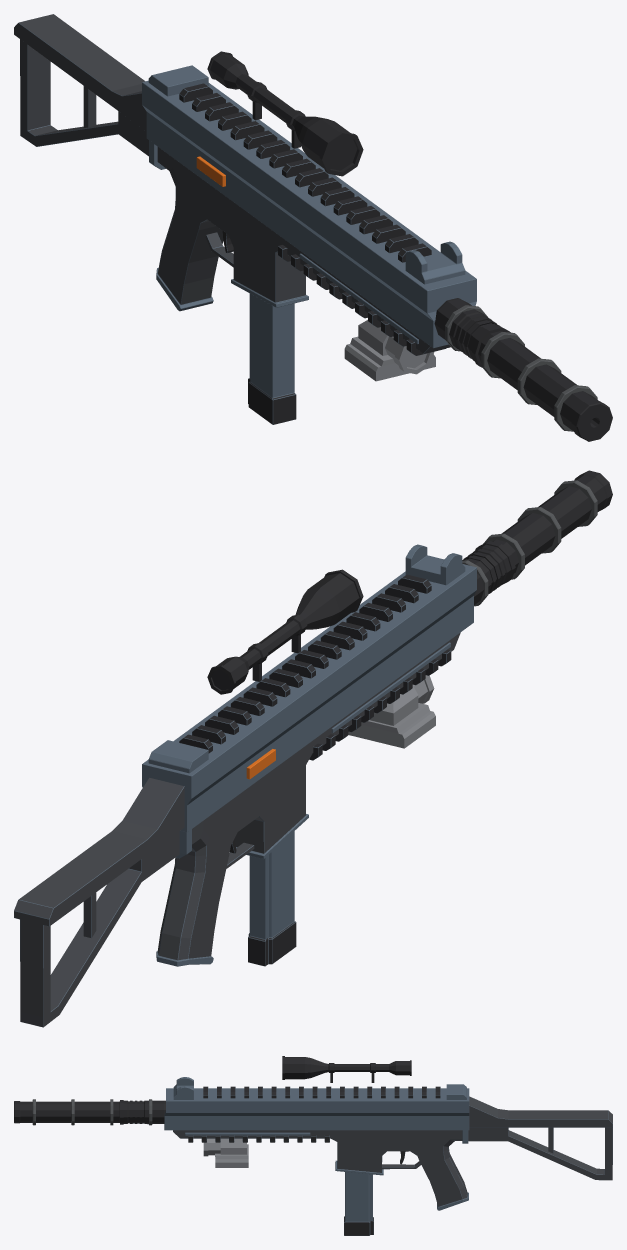
The model's file is tactical_smg.glb.
The picture shows the model from 3 angles, top to bottom: view 1: azimuth 30°, elevation 25°; view 2: azimuth 150°, elevation 25°; view 3: azimuth 270°, elevation 25°; orthographic projection. The views are drawn at different scales.
Parts seen in each view (by area): view 1: tactical_smg; view 2: tactical_smg; view 3: tactical_smg.
Part boxes in pixels (left/top/right/bottom): tactical_smg: left=14, top=14, right=612, bottom=441; tactical_smg: left=14, top=470, right=612, bottom=1027; tactical_smg: left=14, top=1056, right=612, bottom=1235.
Size of the model in its own units: 0.0385 by 0.204 by 0.628.
